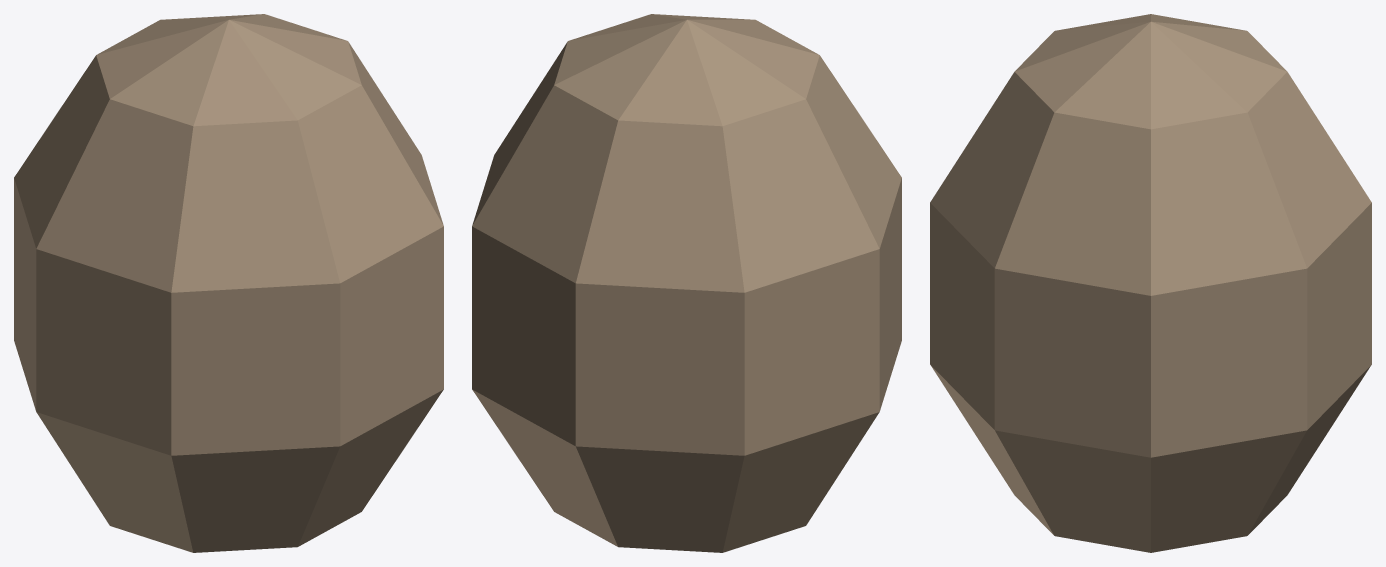
Rendered from Egg.fbx.
3 views of the same model, side by side, from view 1: azimuth 30°, elevation 25°; view 2: azimuth 150°, elevation 25°; view 3: azimuth 270°, elevation 25° (orthographic).
Parts seen in each view (by area): view 1: pSphere5; view 2: pSphere5; view 3: pSphere5.
Part boxes in pixels (left/top/right/bottom): pSphere5: left=14, top=14, right=443, bottom=552; pSphere5: left=472, top=14, right=901, bottom=552; pSphere5: left=930, top=14, right=1371, bottom=552.
Size of the model in its own units: 26.31 by 34.4 by 26.31.
